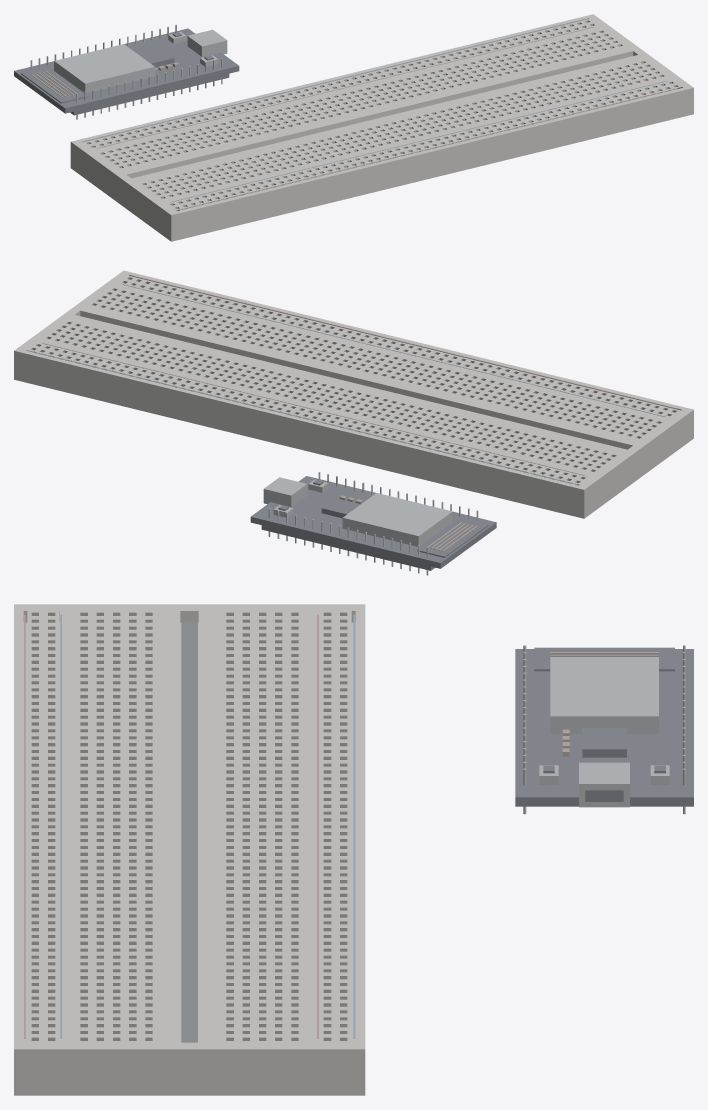
File: step-1.glb
3 views of the same model, one above another, from view 1: azimuth 30°, elevation 25°; view 2: azimuth 150°, elevation 25°; view 3: azimuth 270°, elevation 25° (orthographic). The views are drawn at different scales.
Visible parts, largest first — view 1: breadboard__mesh, uno__mesh; view 2: breadboard__mesh, uno__mesh; view 3: breadboard__mesh, uno__mesh.
Part boxes in pixels (box(x1,y1,x2,y2)): breadboard__mesh: box(70, 14, 693, 241); uno__mesh: box(14, 24, 239, 119); breadboard__mesh: box(14, 270, 693, 518); uno__mesh: box(250, 472, 496, 575); breadboard__mesh: box(14, 604, 365, 1095); uno__mesh: box(515, 645, 693, 814).
Bounding box in the file's own units: 0.165 × 0.009 × 0.1065.
